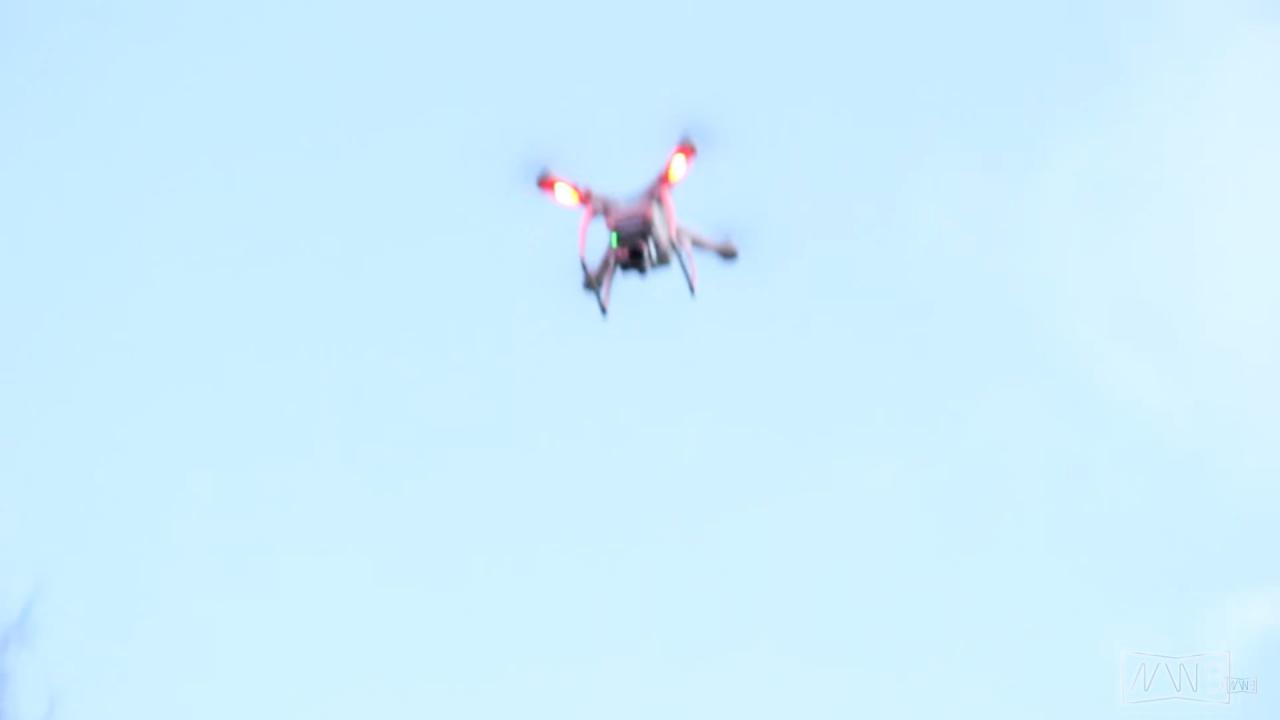Drone: (512, 114, 766, 332)
